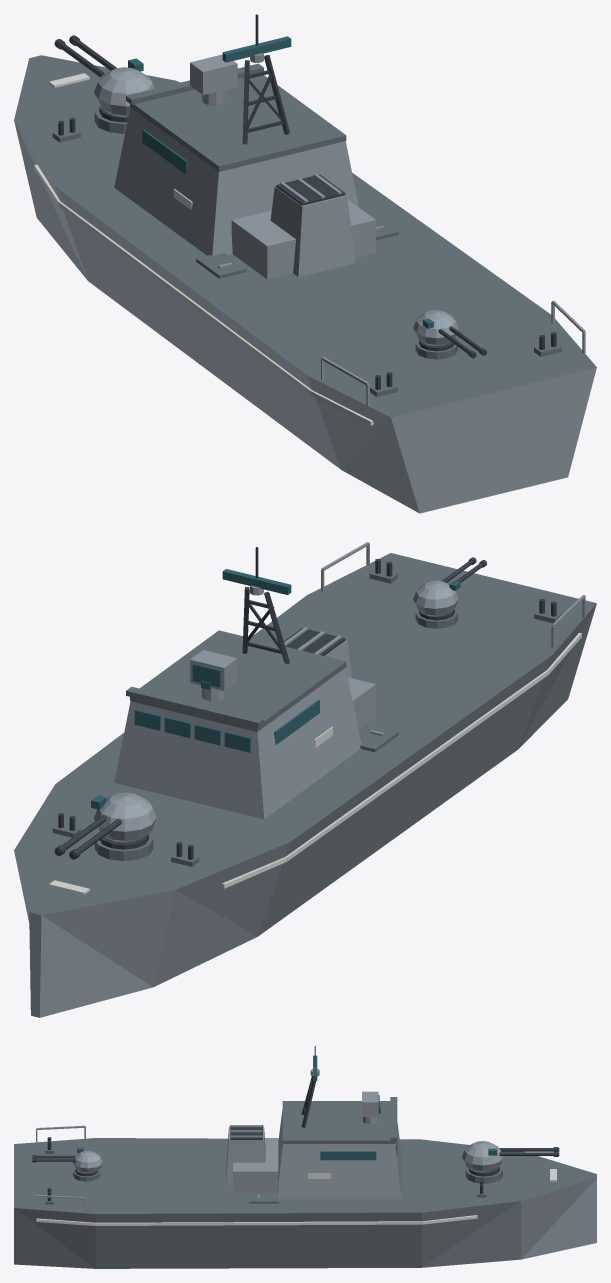
File: ESC_PB_T0.fbx
The picture shows the model from 3 angles, top to bottom: view 1: azimuth 30°, elevation 25°; view 2: azimuth 150°, elevation 25°; view 3: azimuth 270°, elevation 25°; orthographic projection. The views are drawn at different scales.
Parts seen in each view (by area): view 1: ContinuousHull.012, Deckhouse.012, Roof.012, FunnelEnclosure.012, AftEngineHouse, PrimaryGunCupola.012, RoleHullStripe-1_1, FireControlHousing, AftGunCupola, ExhaustGrille, BridgeBrow, NavigationRadar (+2 smaller); view 2: ContinuousHull.012, Deckhouse.012, Roof.012, PrimaryGunCupola.012, RoleHullStripe-1_1, BridgeBrow, AftGunCupola, FireControlHousing, AftEngineHouse, NavigationRadar, ExhaustGrille, PrimaryGunFoundation (+2 smaller); view 3: ContinuousHull.012, Deckhouse.012, Roof.012, AftEngineHouse, RoleHullStripe1_1, FunnelEnclosure.012, PrimaryGunCupola.012, BridgeSideGlass1, AftGunCupola, FireControlHousing, ExhaustGrille, BridgeBrow (+2 smaller).
Boxes of the visible parts, x1,y1,x2,y2 form: ContinuousHull.012: (14,55,596,513); Deckhouse.012: (114,107,358,255); Roof.012: (130,75,346,171); FunnelEnclosure.012: (270,186,355,277); AftEngineHouse: (231,199,375,279); PrimaryGunCupola.012: (94,67,154,117); RoleHullStripe-1_1: (58,201,312,394); FireControlHousing: (190,54,237,94); AftGunCupola: (413,310,458,345); ExhaustGrille: (276,174,345,205); BridgeBrow: (126,63,263,104); NavigationRadar: (222,36,291,62); ContinuousHull.012: (14,553,596,1017); Deckhouse.012: (114,667,361,819); Roof.012: (130,630,346,731); PrimaryGunCupola.012: (94,792,156,842); RoleHullStripe-1_1: (286,670,548,861); BridgeBrow: (126,687,263,727); AftGunCupola: (413,580,458,616); FireControlHousing: (190,650,237,690); AftEngineHouse: (348,677,375,729); NavigationRadar: (222,569,291,594); ExhaustGrille: (284,628,345,655); PrimaryGunFoundation: (94,833,153,861); ContinuousHull.012: (14,1138,596,1268); Deckhouse.012: (277,1109,401,1199); Roof.012: (282,1101,395,1143); AftEngineHouse: (233,1138,278,1192); RoleHullStripe1_1: (95,1221,421,1225); FunnelEnclosure.012: (226,1126,265,1184); PrimaryGunCupola.012: (462,1141,503,1172); BridgeSideGlass1: (320,1151,376,1160); AftGunCupola: (72,1150,102,1173); FireControlHousing: (362,1091,378,1116); ExhaustGrille: (230,1125,262,1139); BridgeBrow: (390,1097,397,1141).
Size of the model in its own units: 278 by 333 by 900.
